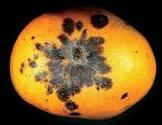mango: (9, 6, 156, 119)
